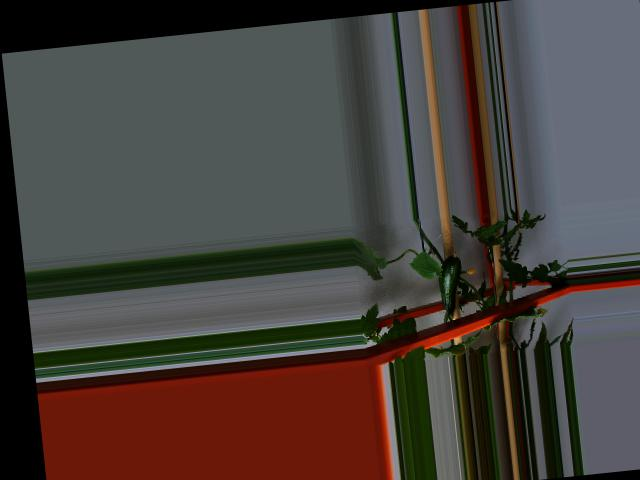cucumber: (436, 250, 466, 312)
